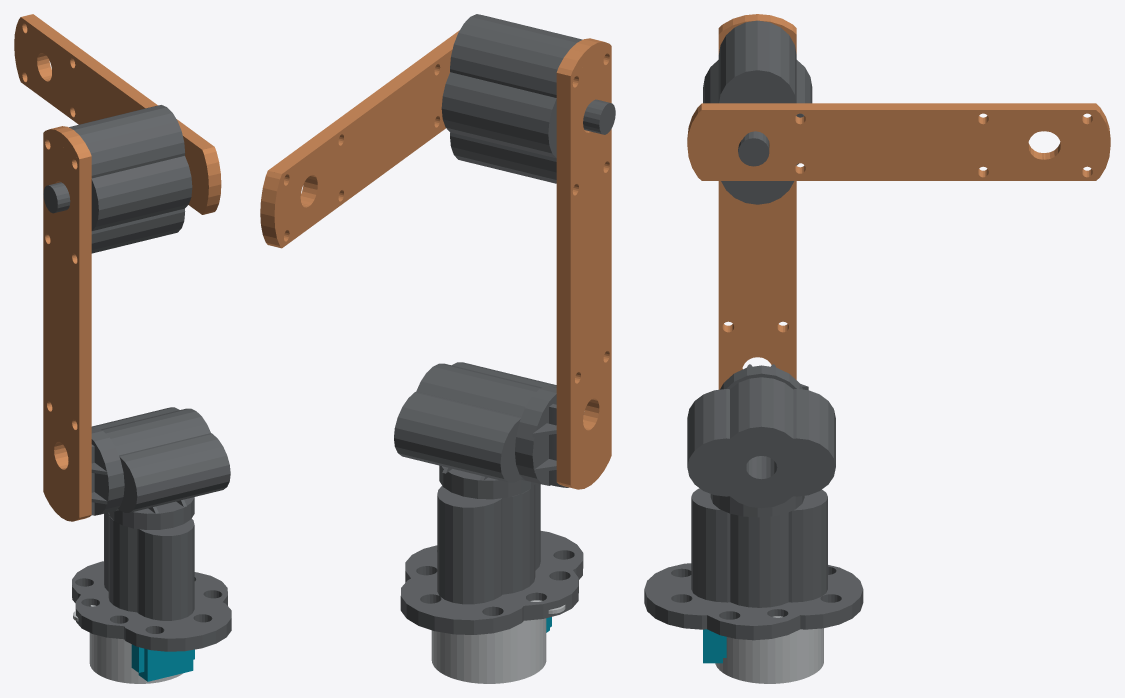
The model's file is ROBOT ARM.glb.
3 renders of one model, left to right at view 1: azimuth 30°, elevation 25°; view 2: azimuth 150°, elevation 25°; view 3: azimuth 270°, elevation 25°, orthographic. The views are drawn at different scales.
Parts seen in each view (by area): view 1: Mesh_Mesh_head_geo.001_lambert2SG.001; view 2: Mesh_Mesh_head_geo.001_lambert2SG.001; view 3: Mesh_Mesh_head_geo.001_lambert2SG.001.
Boxes of the visible parts, <box> form: Mesh_Mesh_head_geo.001_lambert2SG.001: <box>14,14,231,683</box>; Mesh_Mesh_head_geo.001_lambert2SG.001: <box>260,14,615,683</box>; Mesh_Mesh_head_geo.001_lambert2SG.001: <box>644,14,1110,683</box>.
Bounding box in the file's own units: 55 × 170 × 119.
